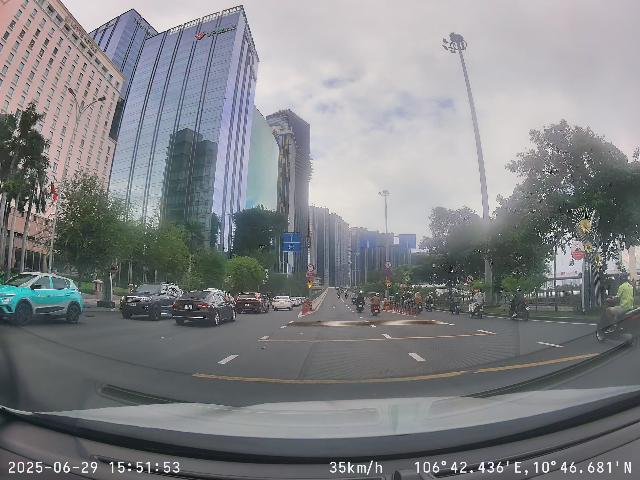103a-cam-oto: (465, 275, 474, 283)
